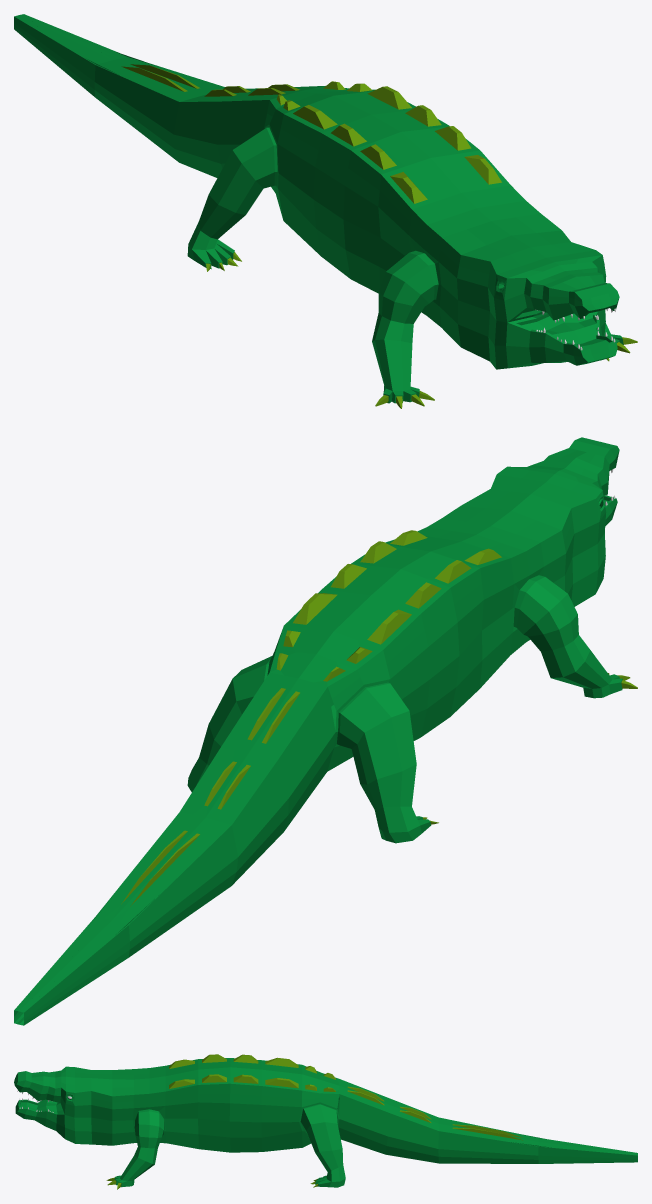
The model's file is crocodile.fbx.
3 renders of one model, top to bottom at view 1: azimuth 30°, elevation 25°; view 2: azimuth 150°, elevation 25°; view 3: azimuth 270°, elevation 25°, orthographic. The views are drawn at different scales.
Parts seen in each view (by area): view 1: Cube; view 2: Cube; view 3: Cube.
Boxes of the visible parts, <box> form: Cube: <box>14,14,637,408</box>; Cube: <box>14,437,637,1025</box>; Cube: <box>14,1054,637,1189</box>.
Bounding box in the file's own units: 225 × 148 × 869.
